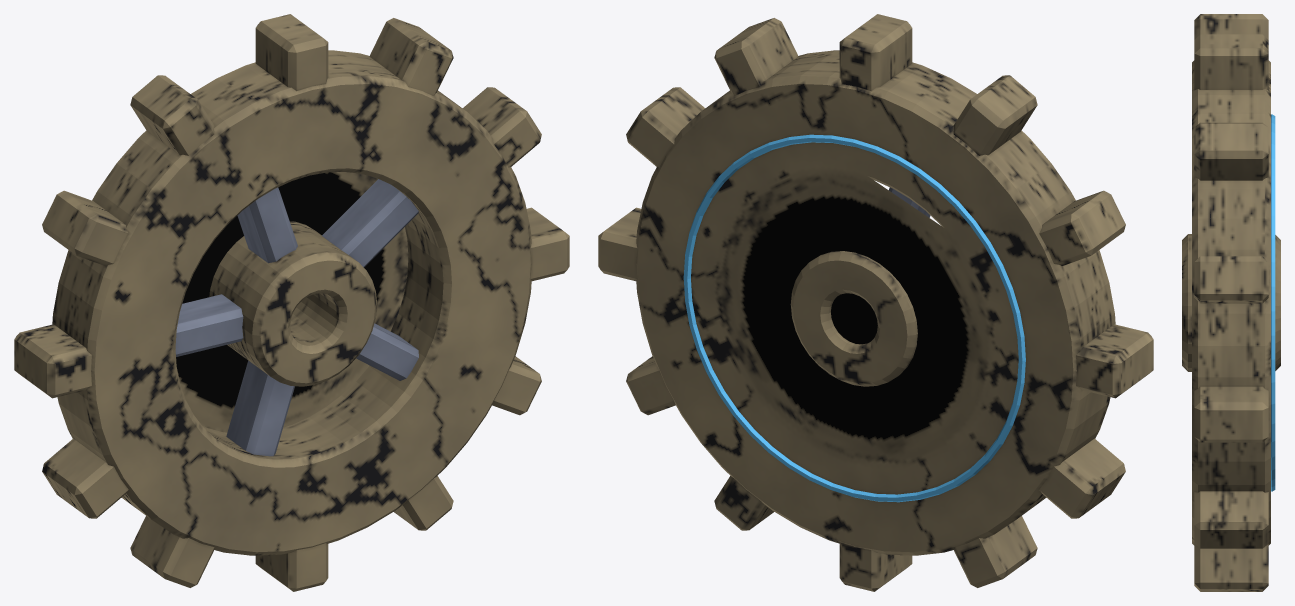
File: BG_Gear.obj
3 renders of one model, left to right at view 1: azimuth 30°, elevation 25°; view 2: azimuth 150°, elevation 25°; view 3: azimuth 270°, elevation 25°, orthographic. The views are drawn at different scales.
Visible parts, largest first — view 1: BG_Gear; view 2: BG_Gear; view 3: BG_Gear.
Boxes of the visible parts, <box> form: BG_Gear: <box>14,14,569,591</box>; BG_Gear: <box>598,14,1153,591</box>; BG_Gear: <box>1182,14,1280,591</box>.
Size of the model in its own units: 1 by 1 by 0.1709.
Materials: 1 (1 with a texture image).
